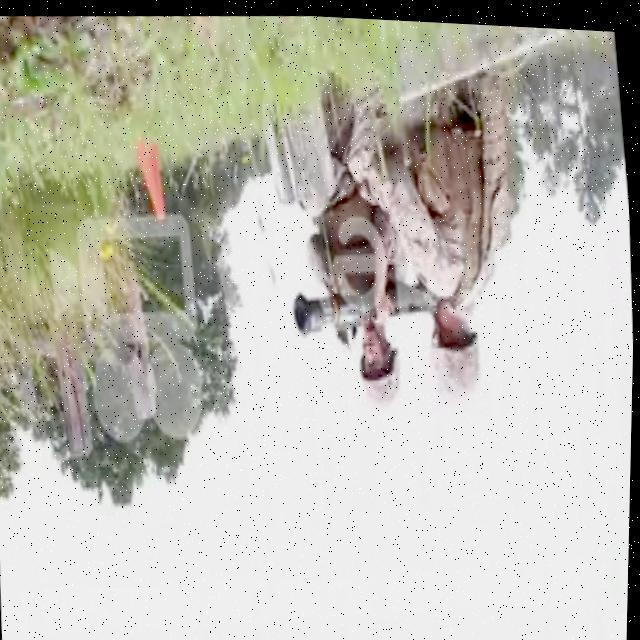rocket: (291, 264, 440, 338)
